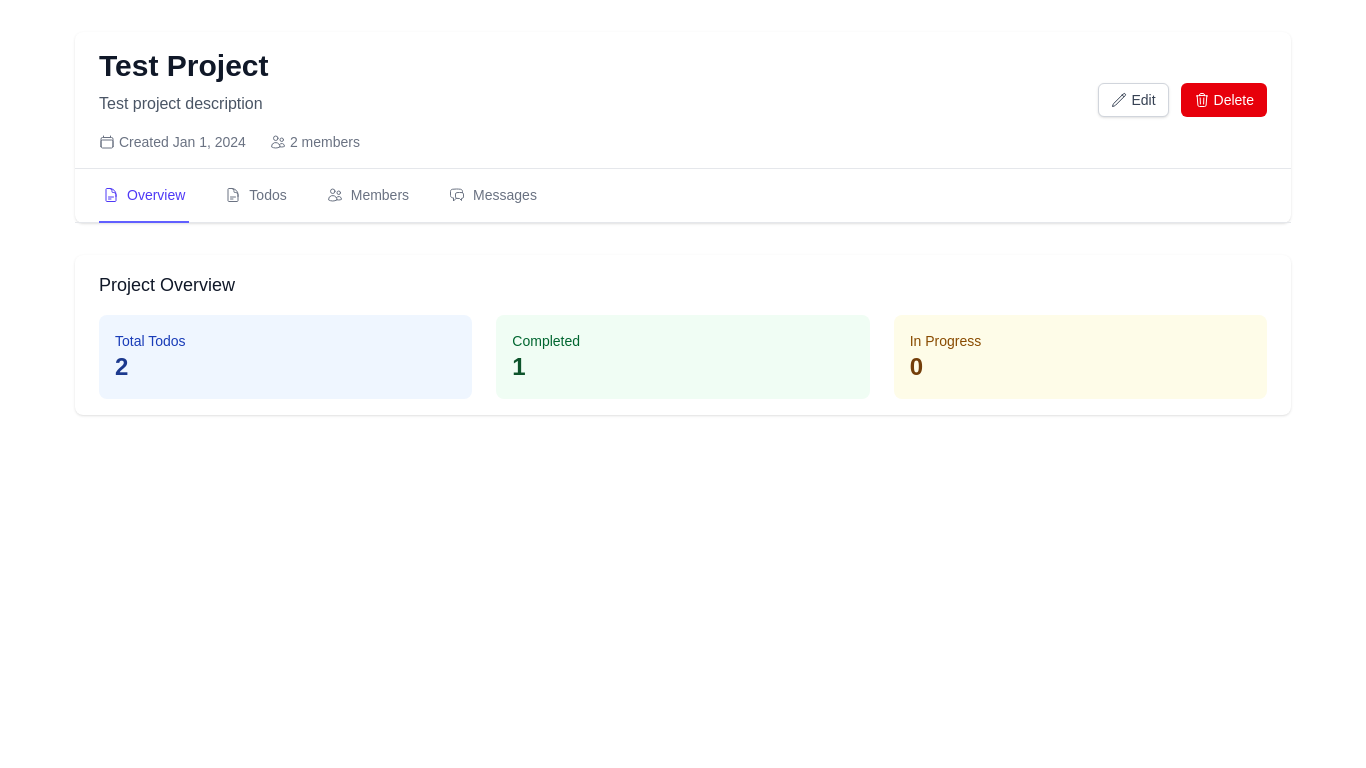
Test: ProjectDetailPage › should open edit project modal when edit button is clicked
Click the button "Edit" at (1133, 100), box [1098,83,1168,117]
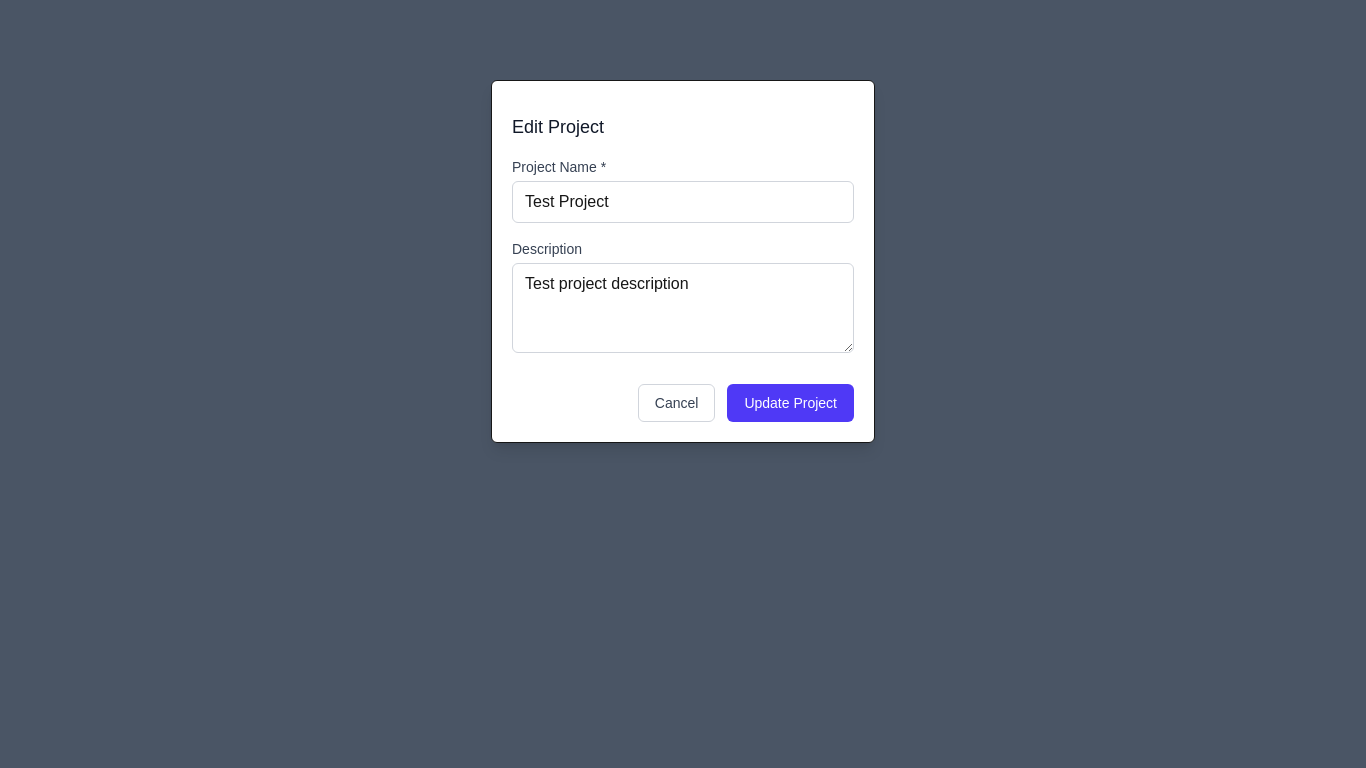
Check: the heading "Edit Project" is shown, box [512,117,604,137]
Check: the field showing "Test Project" is shown, box [512,181,854,223]
Check: the text box showing "Test project description" is shown, box [512,263,854,353]
